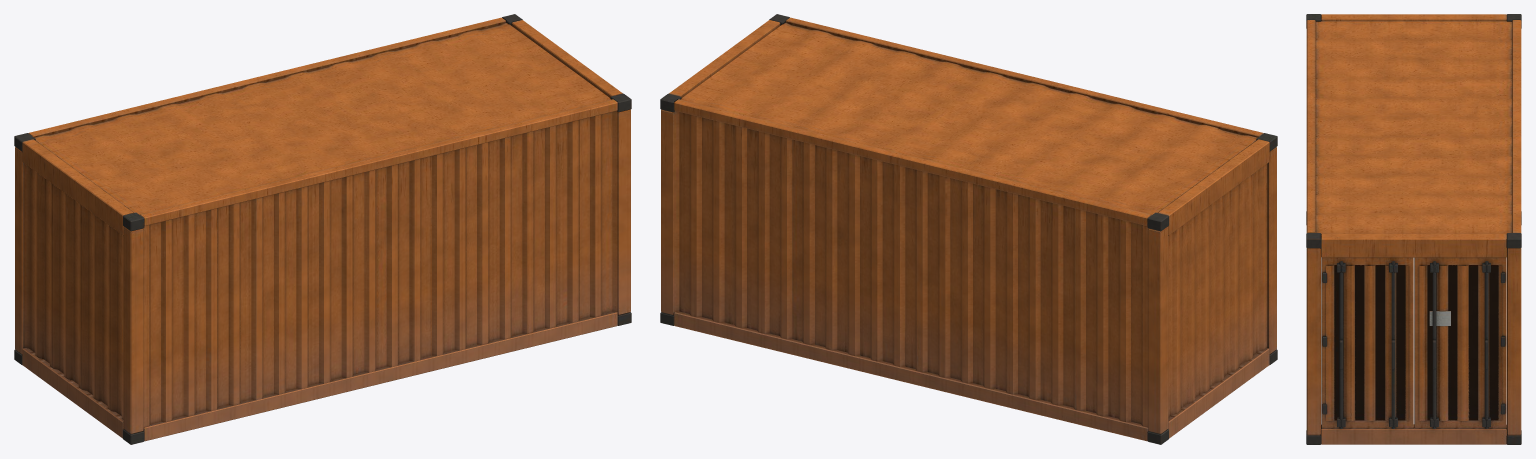
The model's file is container20_orange.glb.
3 renders of one model, left to right at view 1: azimuth 30°, elevation 25°; view 2: azimuth 150°, elevation 25°; view 3: azimuth 270°, elevation 25°, orthographic. The views are drawn at different scales.
Visible parts, largest first — view 1: container20_orange; view 2: container20_orange; view 3: container20_orange.
Boxes of the visible parts, bbox=[...] form: container20_orange: bbox=[14, 14, 631, 444]; container20_orange: bbox=[660, 14, 1277, 444]; container20_orange: bbox=[1306, 14, 1521, 444].
Size of the model in its own units: 6.18 by 2.59 by 2.45.
1 material, 1 textured.
